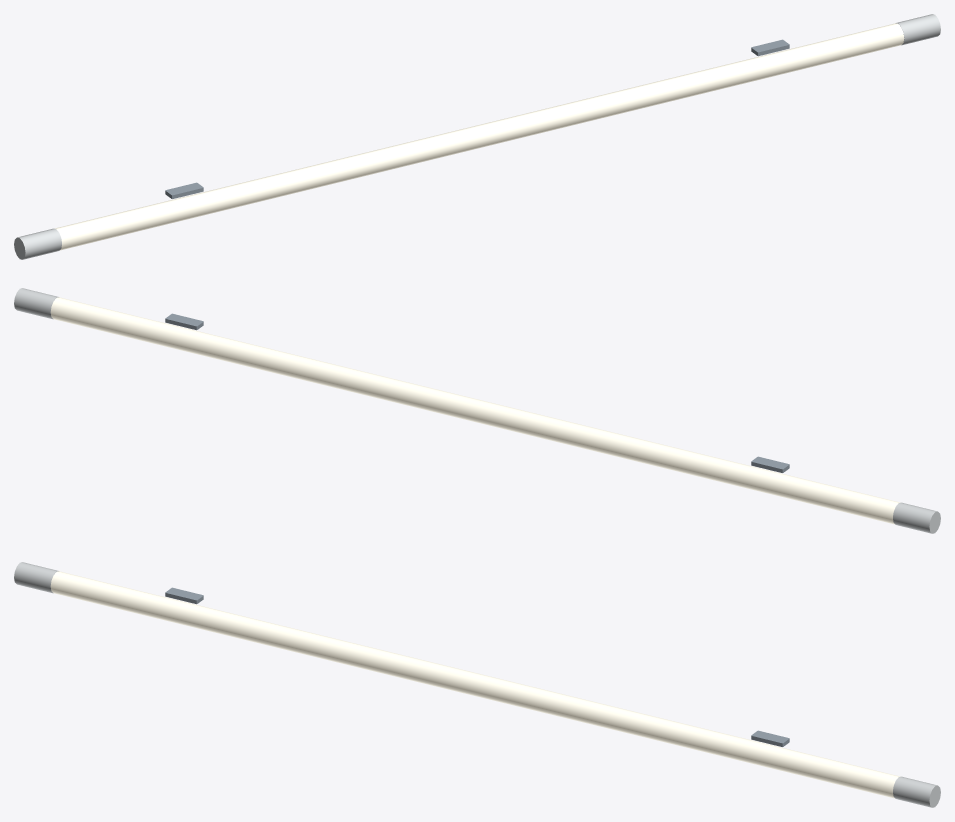
The model's file is source.glb.
3 renders of one model, top to bottom at view 1: azimuth 30°, elevation 25°; view 2: azimuth 150°, elevation 25°; view 3: azimuth 330°, elevation 25°, orthographic.
Visible parts, largest first — view 1: Emitters, 粉末涂层铝壳, 机加工金属; view 2: Emitters, 粉末涂层铝壳, 机加工金属; view 3: Emitters, 粉末涂层铝壳, 机加工金属.
Boxes of the visible parts, box(x1,y1,x2,y2) form: Emitters: box(54, 23, 904, 250); 粉末涂层铝壳: box(14, 14, 940, 259); 机加工金属: box(165, 39, 789, 198); Emitters: box(50, 297, 900, 524); 粉末涂层铝壳: box(14, 288, 940, 533); 机加工金属: box(165, 313, 789, 472); Emitters: box(50, 571, 900, 798); 粉末涂层铝壳: box(14, 562, 940, 807); 机加工金属: box(165, 587, 789, 746).
Size of the model in its own units: 0.882 by 0.0276 by 0.0193.
